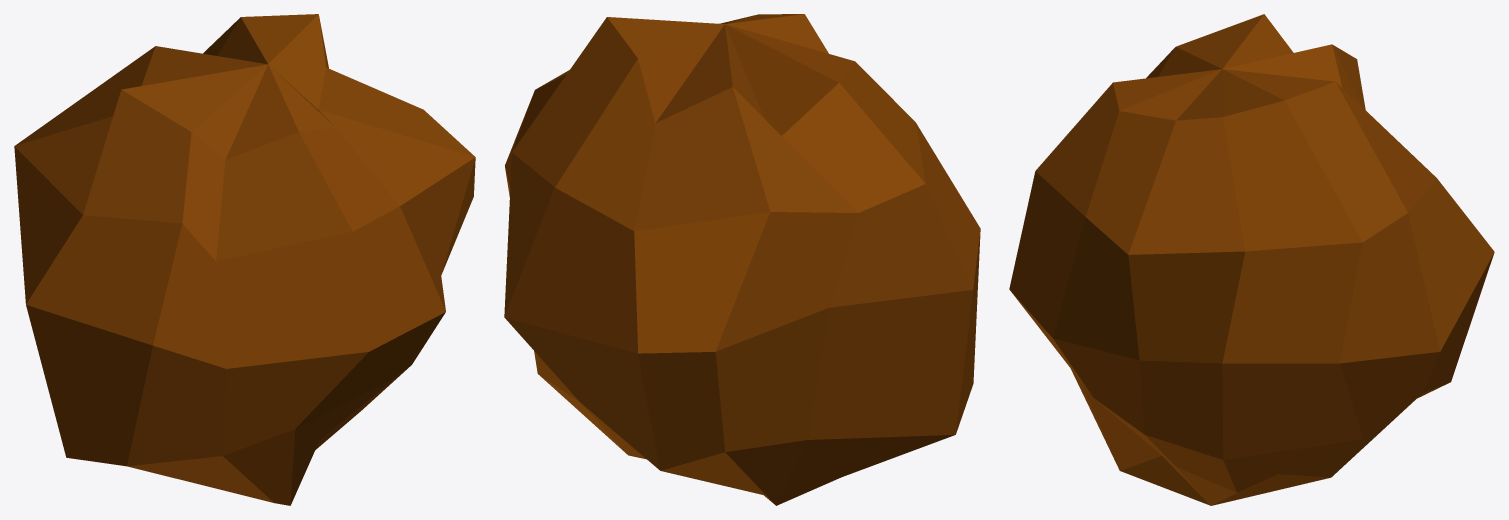
File: BrownObject.obj
3 views of the same model, side by side, from view 1: azimuth 30°, elevation 25°; view 2: azimuth 150°, elevation 25°; view 3: azimuth 270°, elevation 25° (orthographic). The views are drawn at different scales.
Parts seen in each view (by area): view 1: Sphere; view 2: Sphere; view 3: Sphere.
Boxes of the visible parts, <box> form: Sphere: <box>14,14,475,505</box>; Sphere: <box>504,14,980,505</box>; Sphere: <box>1009,14,1494,505</box>.
Bounding box in the file's own units: 225 × 211 × 205.
